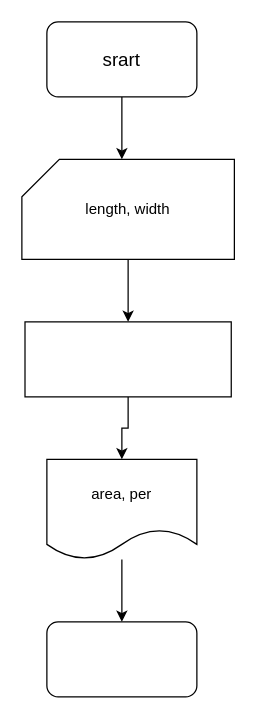
This 256x719 diagram has some shape labels left out. The shapes that lost their labels are listed below. From the top down, each one's centre as x and y in pixels, then its label:
At point 127,359: "area=length*width per=(length+width)*2".
At point 121,659: "stop".
